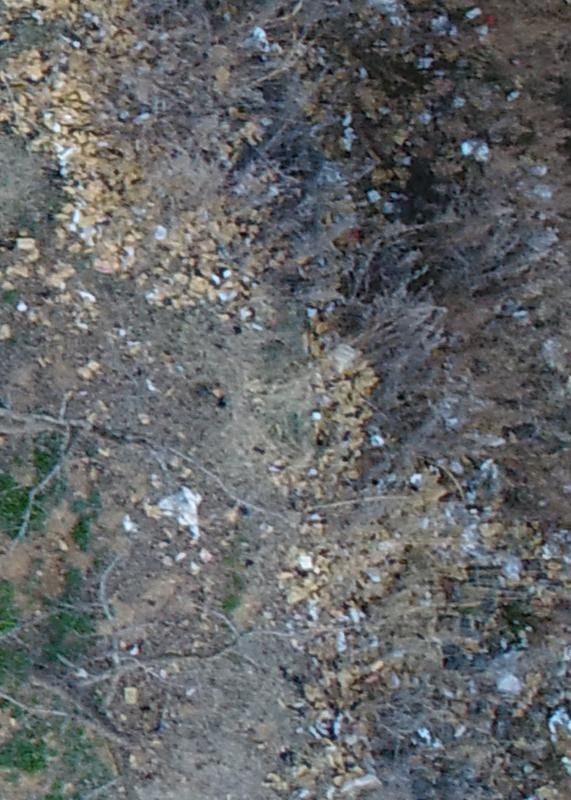apple: (10, 544, 285, 790), (10, 333, 284, 548)
